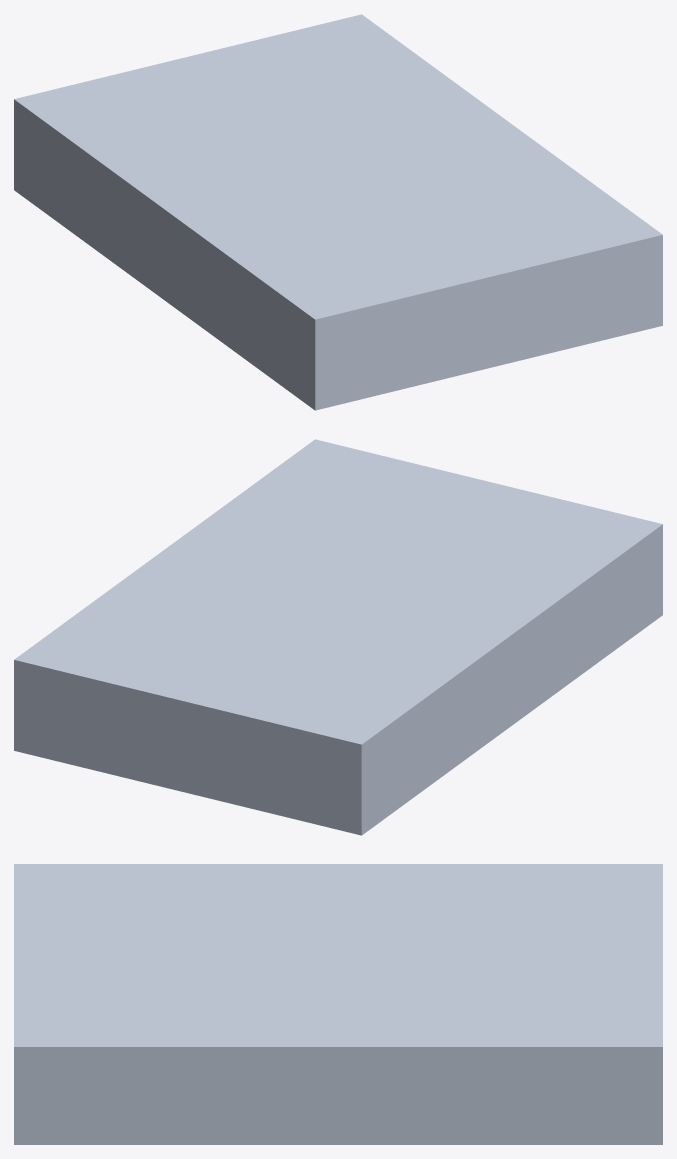
The model's file is nuvem12.fbx.
3 renders of one model, top to bottom at view 1: azimuth 30°, elevation 25°; view 2: azimuth 150°, elevation 25°; view 3: azimuth 270°, elevation 25°, orthographic. The views are drawn at different scales.
Visible parts, largest first — view 1: Cube; view 2: Cube; view 3: Cube.
Part boxes in pixels (bbox=[...]): Cube: bbox=[14, 14, 662, 410]; Cube: bbox=[14, 439, 662, 835]; Cube: bbox=[14, 864, 662, 1144].
Size of the model in its own units: 400 by 100 by 600.
